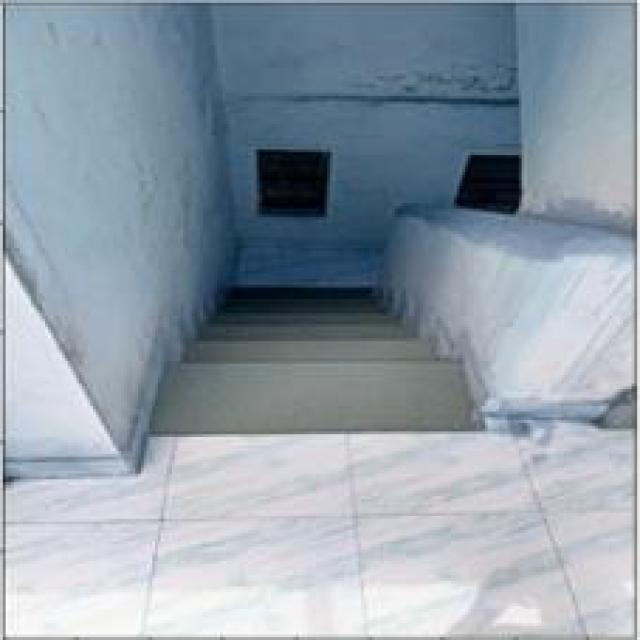stair: (161, 248, 446, 372)
